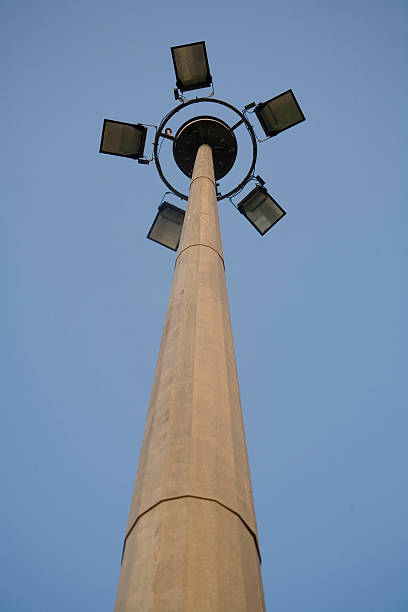light_pole: (116, 170, 265, 612)
